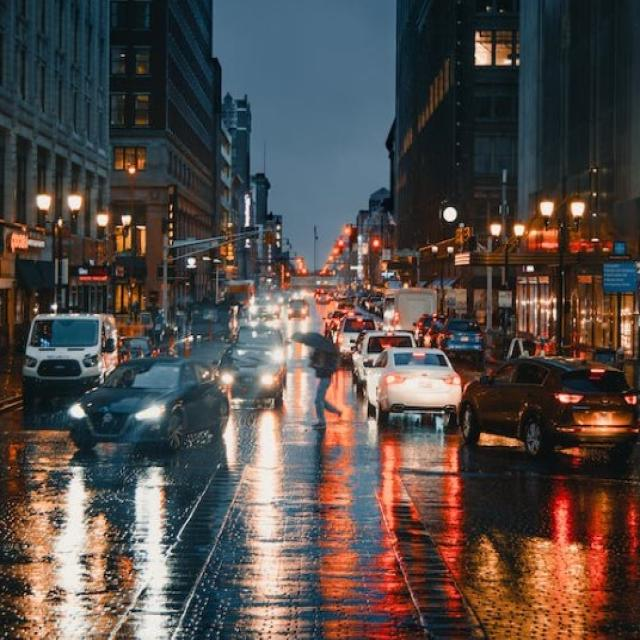bus: (382, 288, 437, 338)
car: (457, 352, 640, 460), (72, 356, 228, 454), (362, 346, 461, 427), (24, 312, 117, 398), (213, 344, 285, 410), (350, 330, 416, 385), (232, 320, 287, 372), (439, 318, 483, 362), (334, 315, 375, 356), (250, 298, 274, 320), (286, 296, 307, 321)
